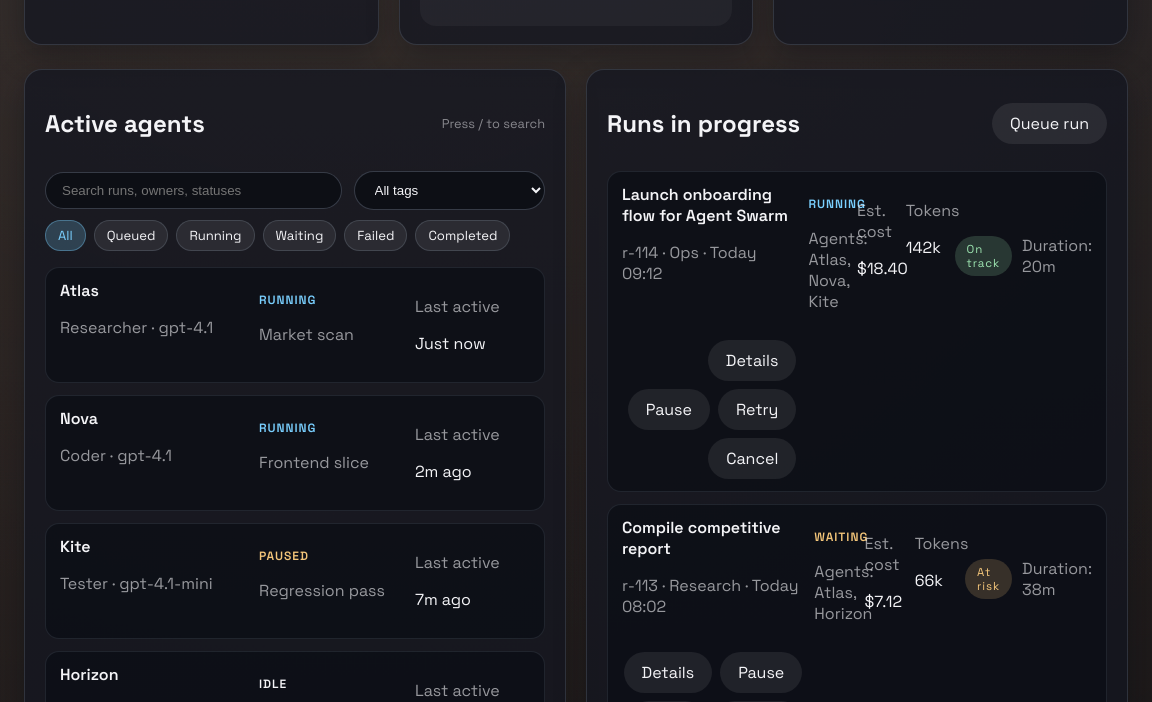
opens run details with recent logs and approvals
(page scrolled)
Expected: the text "r-114" is shown, [622,242,658,263]
Click the button "Details" below "$18.40" at (752, 360), box [708,340,796,381]
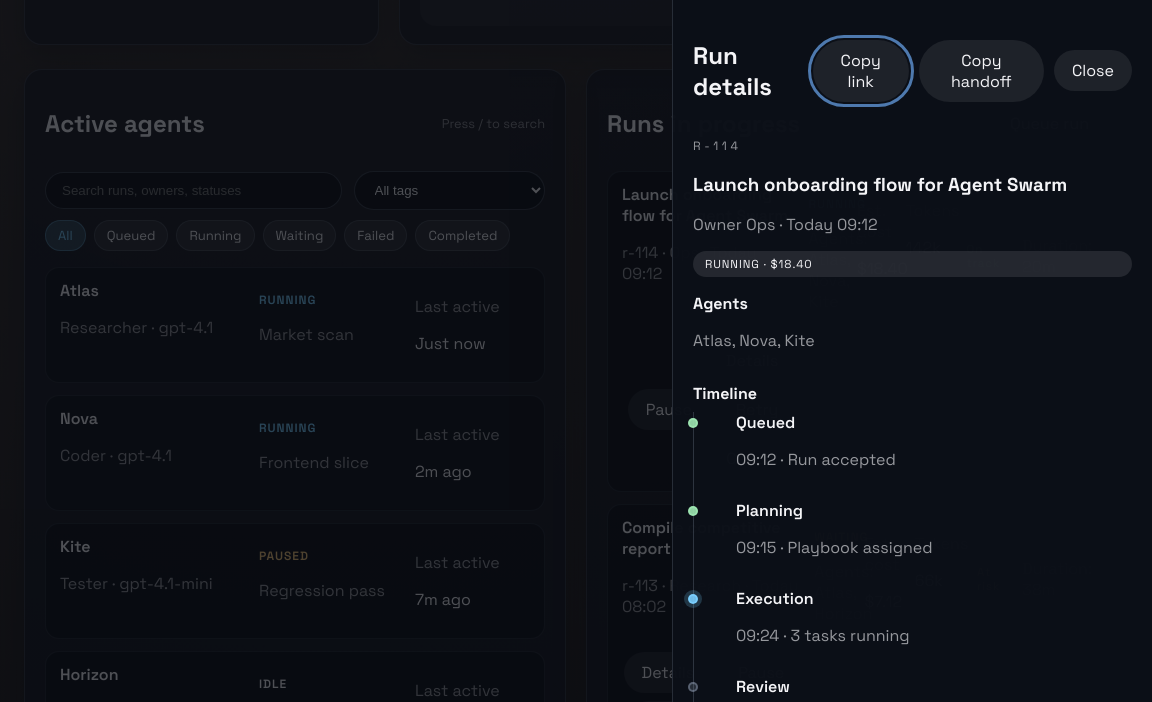
Expected: the heading "Timeline" is shown, [693,383,757,404]
Expected: the text "Execution" is shown, [736,588,814,609]
